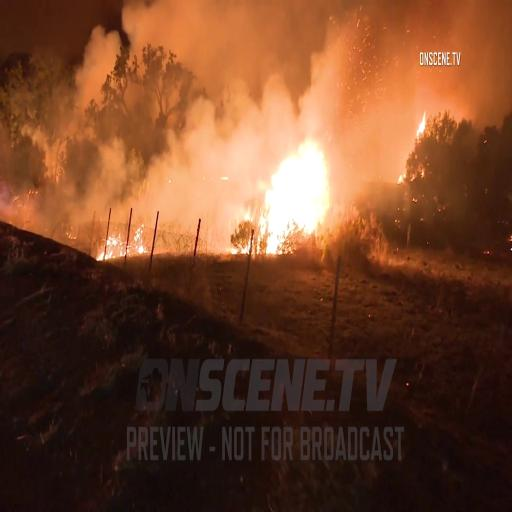fire: (255, 127, 336, 244)
smoke: (180, 2, 249, 195)
